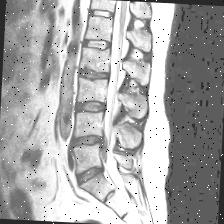disc: (80, 36, 114, 55), (87, 4, 117, 24)
hdisc: (69, 130, 107, 154), (72, 163, 108, 188), (72, 96, 109, 120), (77, 64, 114, 86)
